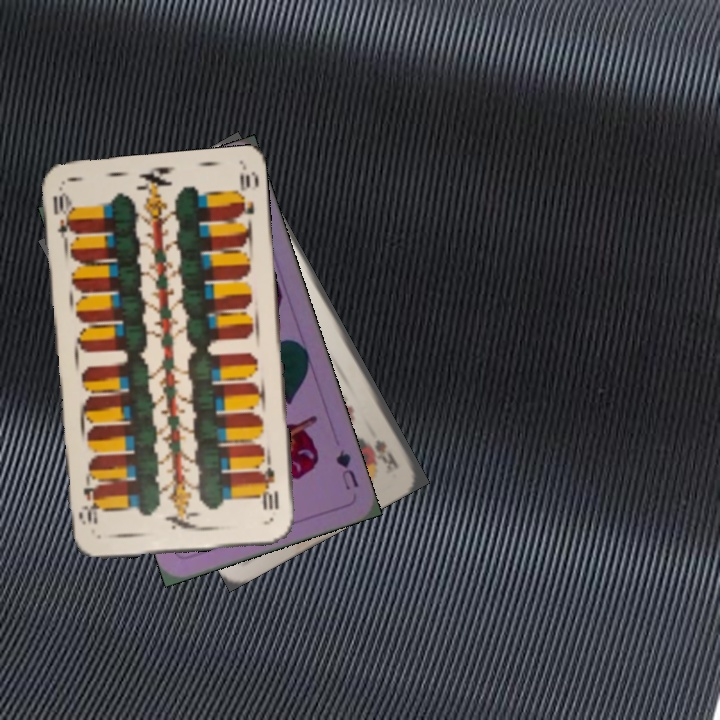E10: (48, 188, 77, 245), (257, 463, 282, 513)
GU: (331, 446, 361, 493)
SK: (370, 435, 401, 475)
